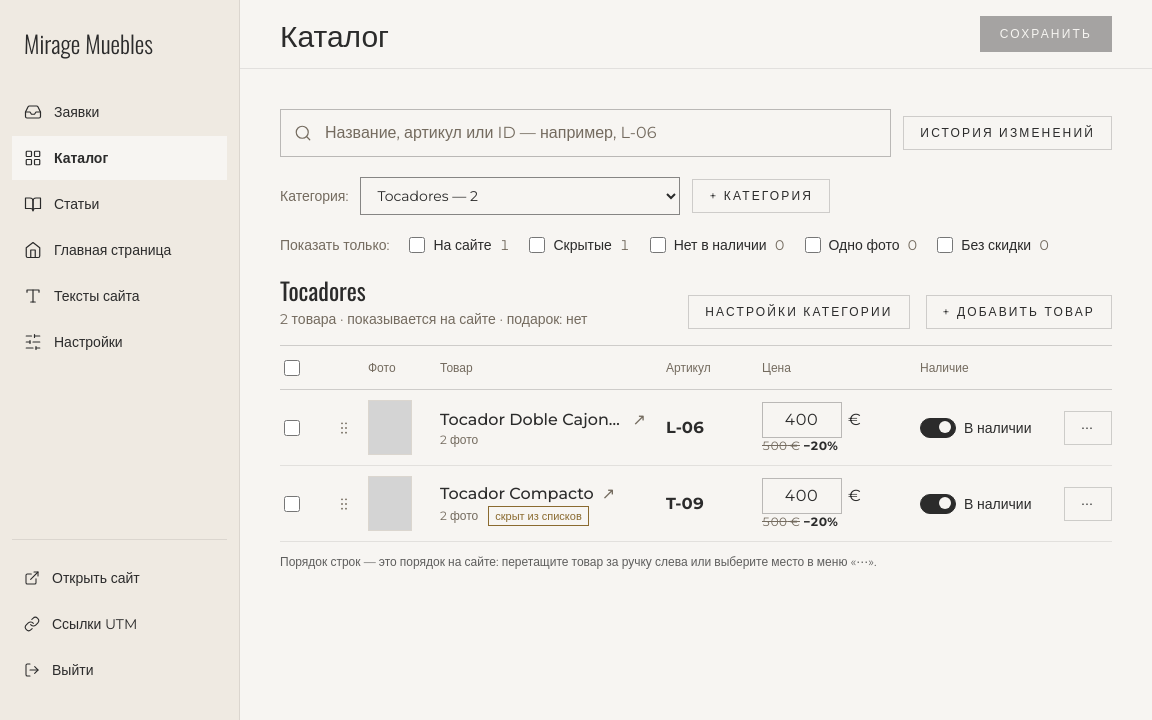
Test: CatalogSection — the product panel › opens a new product to fill in
Expected: the dropdown labelled "Категория:" is shown, [360,177,680,215]
Click the button "+ Добавить товар".
click(1019, 312)  # box [926,295,1112,329]
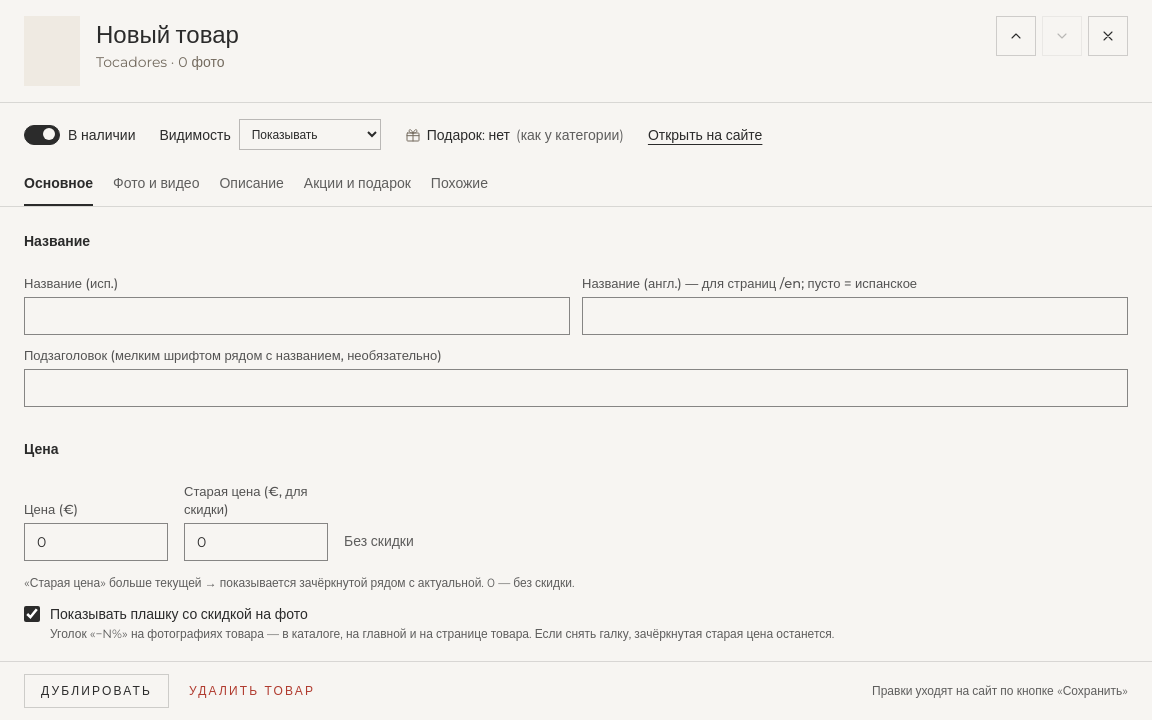
Expected: the dialog "Новый товар" is shown
Expected: the link "Новый товар" is shown, [440,560,536,584]
